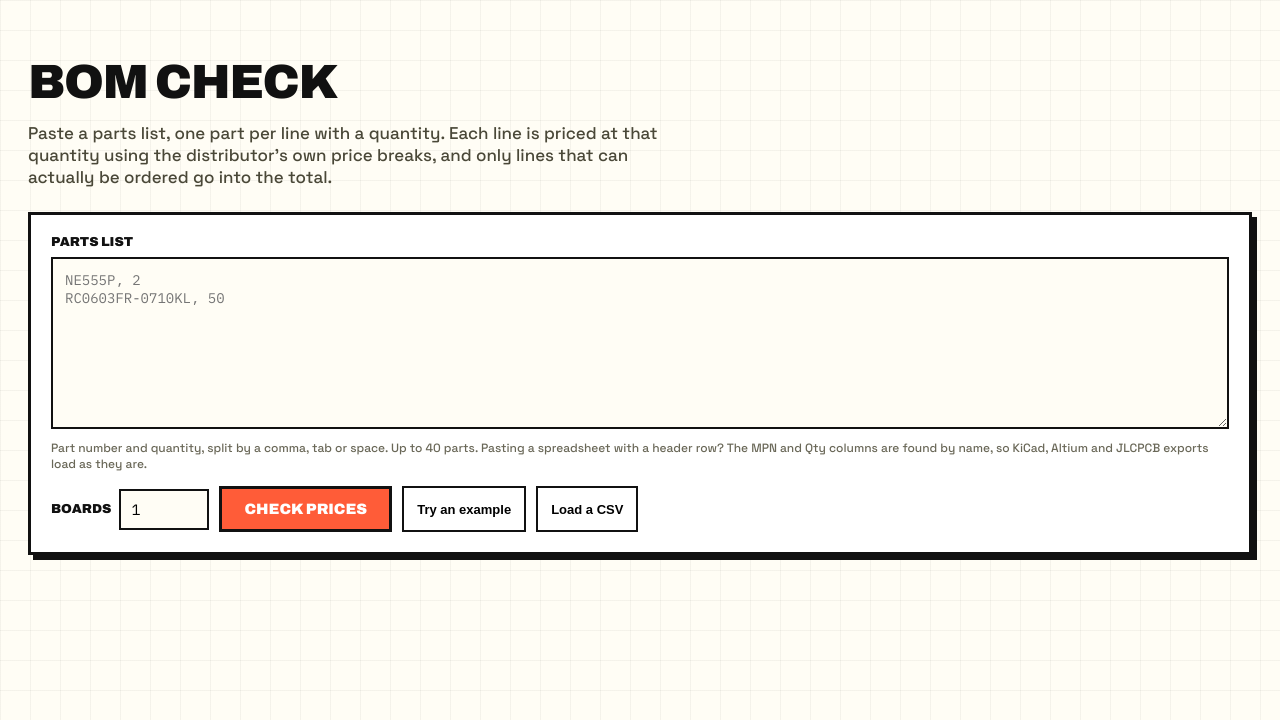
starts with an empty list and a way to try an example
Expected: the text box labelled "PARTS LIST" is empty, [51,257,1229,429]
Click the button "Try an example". click: x=464, y=509
box: [402,486,526,532]
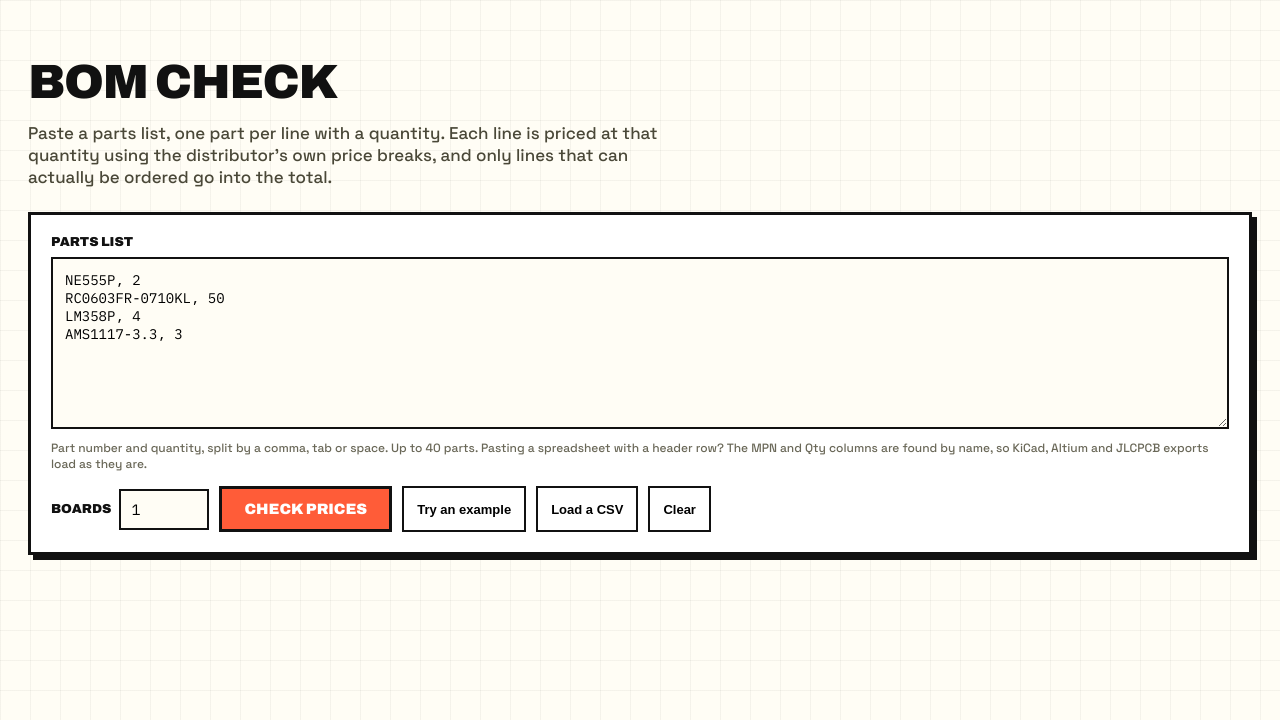
Expected: the text box labelled "PARTS LIST" is not empty, [51,257,1229,429]
